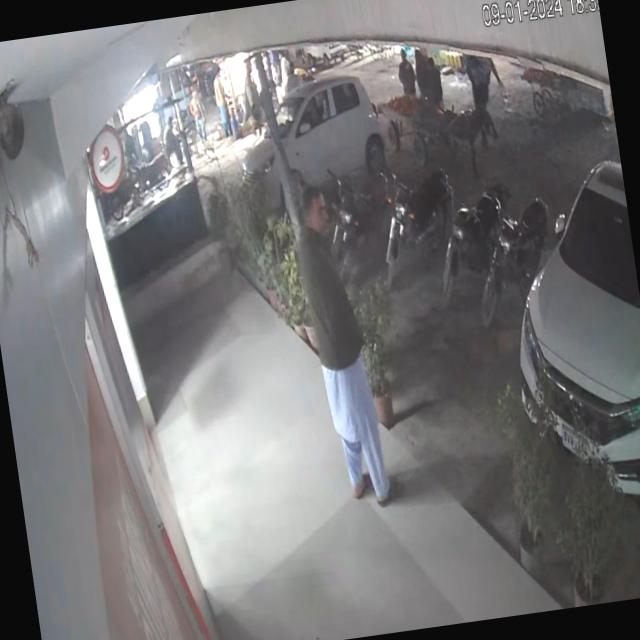Car: (488, 139, 640, 529), (231, 70, 412, 222)
Motorcycle: (374, 150, 468, 296), (462, 182, 546, 326), (430, 188, 484, 312)
